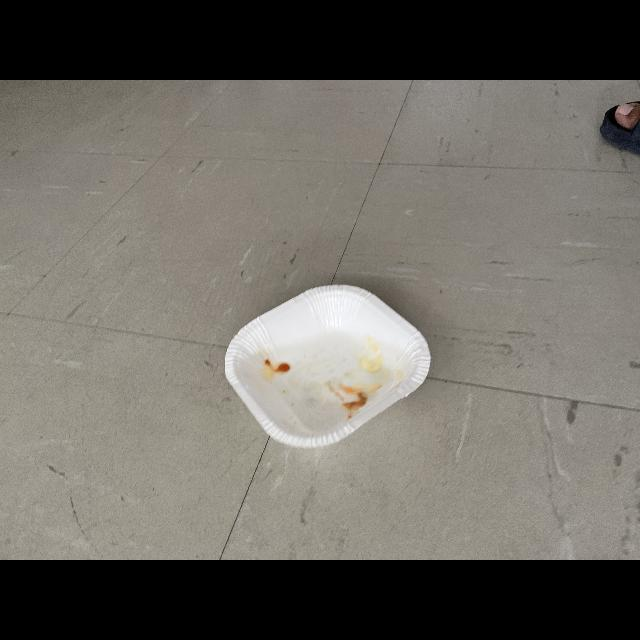cardboard_bowl: (220, 281, 436, 451)
